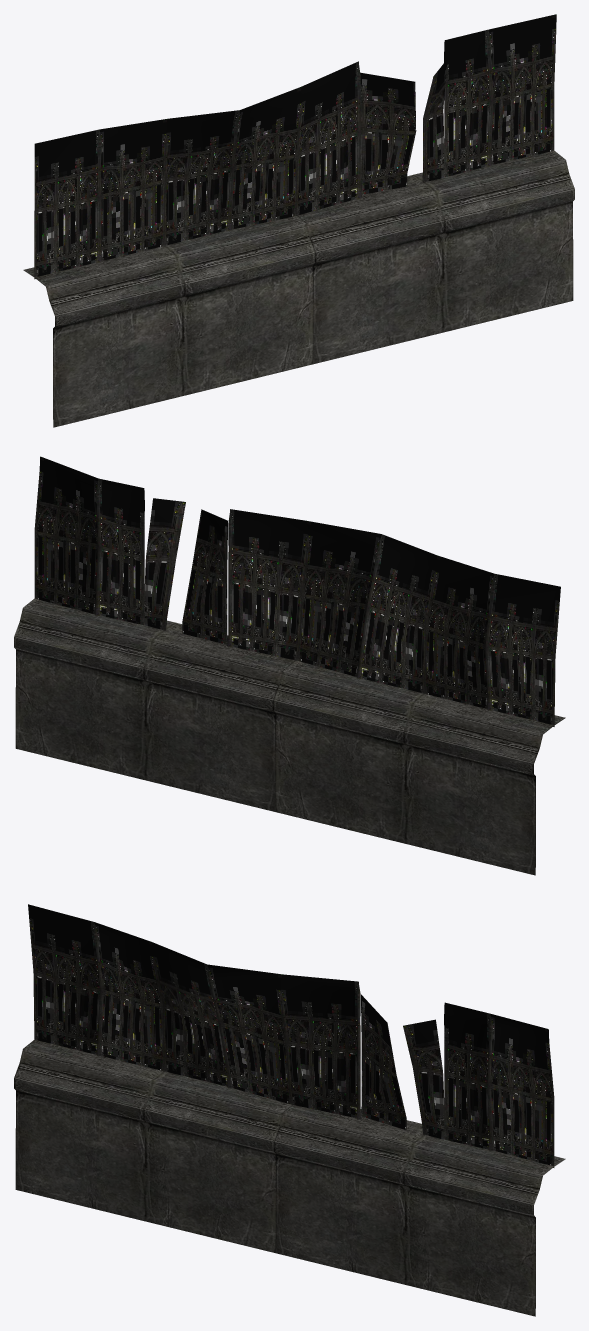
The model's file is eso_gu11_GraveyardFence5-transformed.glb.
The picture shows the model from 3 angles, top to bottom: view 1: azimuth 30°, elevation 25°; view 2: azimuth 150°, elevation 25°; view 3: azimuth 330°, elevation 25°; orthographic projection.
Parts seen in each view (by area): view 1: default; view 2: default; view 3: default.
Part boxes in pixels (bbox=[...]): default: bbox=[23, 14, 574, 427]; default: bbox=[14, 456, 565, 875]; default: bbox=[14, 904, 565, 1316].
Bounding box in the file's own units: 10.3 × 5.2 × 1.39.
1 material, 1 textured.
